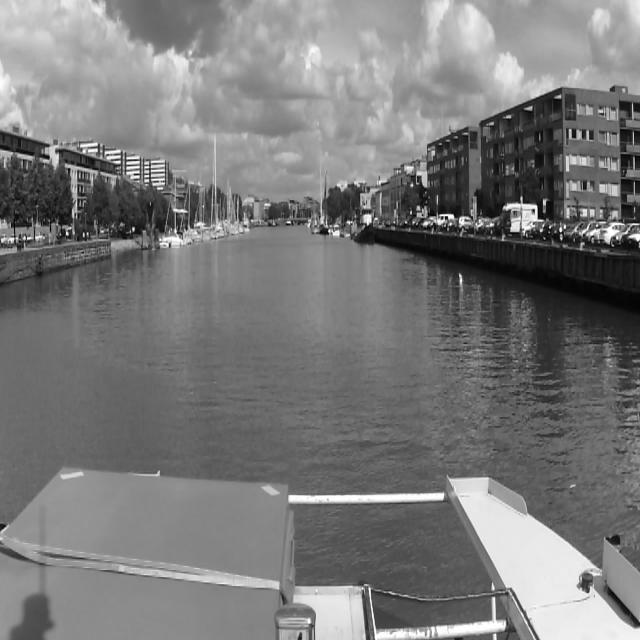ship: (208, 133, 225, 239), (177, 178, 205, 242), (162, 168, 184, 248), (350, 199, 381, 245), (319, 167, 329, 237), (334, 226, 340, 236)
